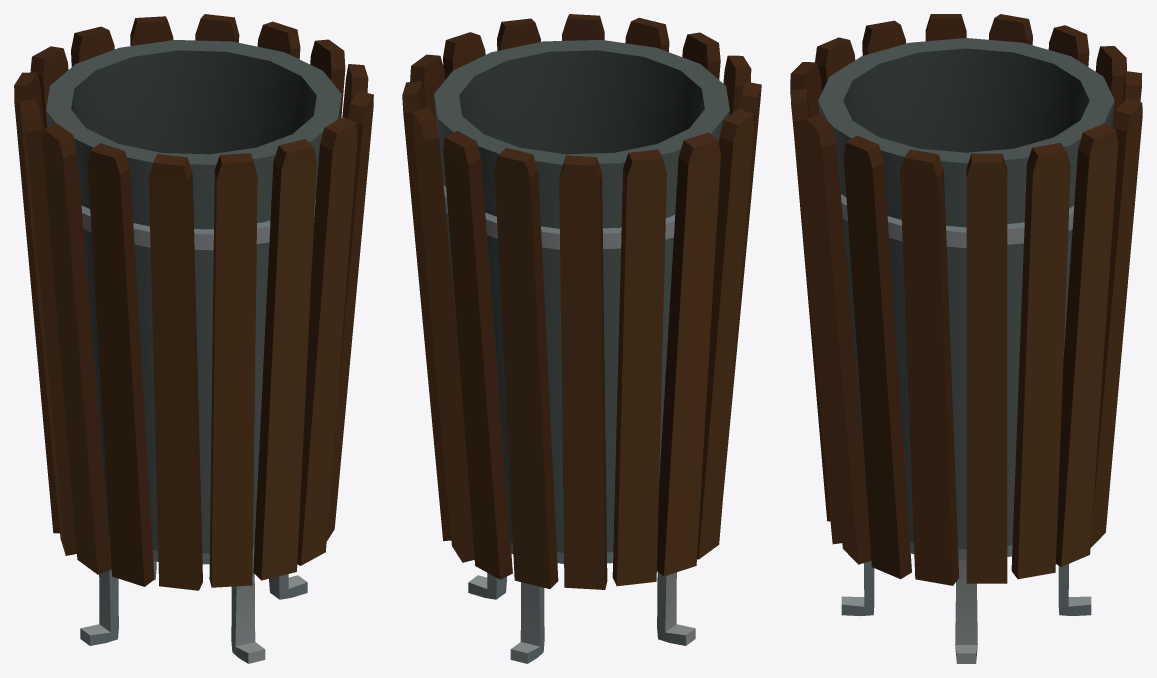
File: ParkTrashcan_Medium.fbx
3 views of the same model, side by side, from view 1: azimuth 30°, elevation 25°; view 2: azimuth 150°, elevation 25°; view 3: azimuth 270°, elevation 25° (orthographic).
Visible parts, largest first — view 1: ParkTrashcan_Medium; view 2: ParkTrashcan_Medium; view 3: ParkTrashcan_Medium.
Boxes of the visible parts, bbox=[...] form: ParkTrashcan_Medium: bbox=[14, 14, 373, 663]; ParkTrashcan_Medium: bbox=[402, 14, 761, 663]; ParkTrashcan_Medium: bbox=[790, 14, 1142, 663].
Size of the model in its own units: 55.69 by 91.64 by 55.69.
